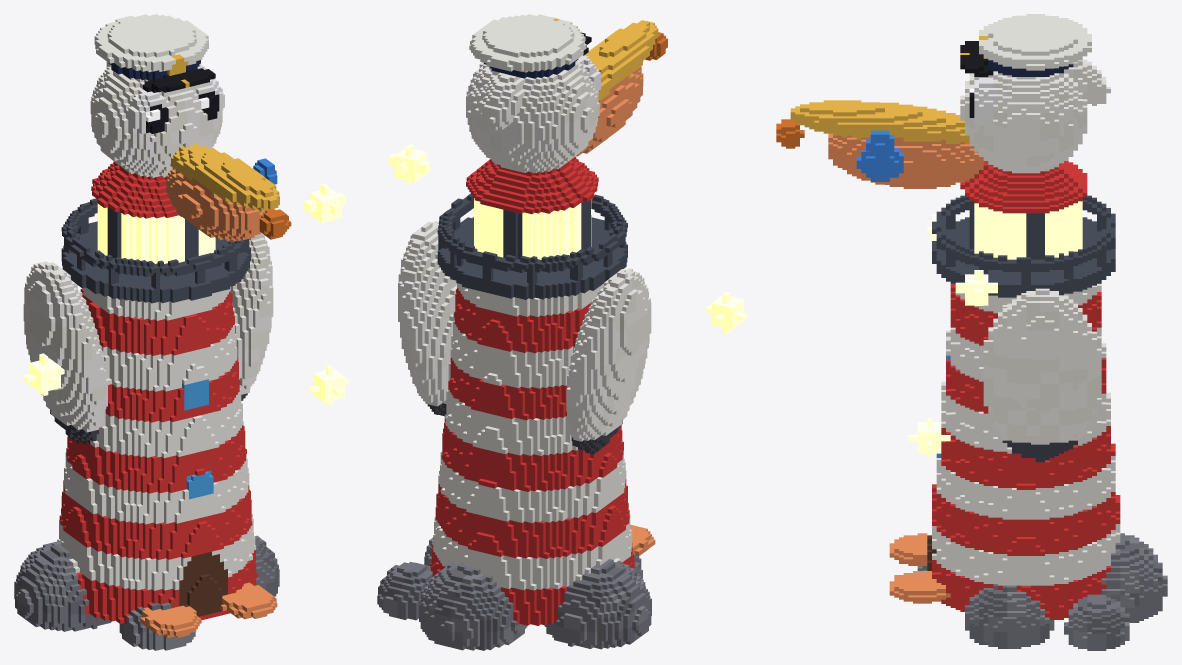
Rendered from faro_pellicano.glb.
3 views of the same model, side by side, from view 1: azimuth 30°, elevation 25°; view 2: azimuth 150°, elevation 25°; view 3: azimuth 270°, elevation 25° (orthographic).
Visible parts, largest first — view 1: SM_Brainrot_faro_pellicano; view 2: SM_Brainrot_faro_pellicano; view 3: SM_Brainrot_faro_pellicano.
Boxes of the visible parts, left/top/right/bottom form: SM_Brainrot_faro_pellicano: left=14, top=14, right=348, bottom=650; SM_Brainrot_faro_pellicano: left=377, top=14, right=747, bottom=650; SM_Brainrot_faro_pellicano: left=776, top=14, right=1167, bottom=650.
Size of the model in its own units: 4.92 by 7.92 by 4.98.
1 material, 1 textured.
